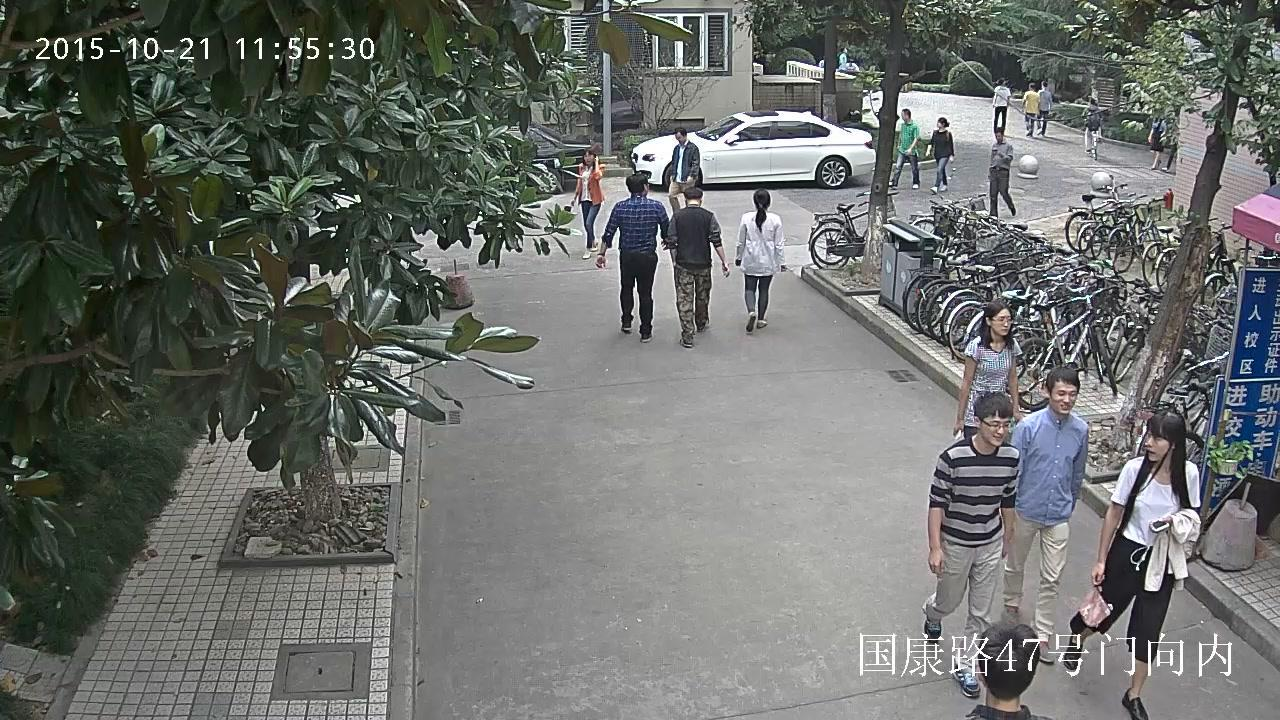face: (981, 415, 1013, 446), (1145, 427, 1171, 462), (1051, 382, 1078, 414), (991, 308, 1013, 335), (582, 151, 595, 165), (901, 110, 907, 122), (676, 132, 683, 142), (936, 120, 943, 127), (995, 133, 1001, 141), (645, 183, 649, 194)
